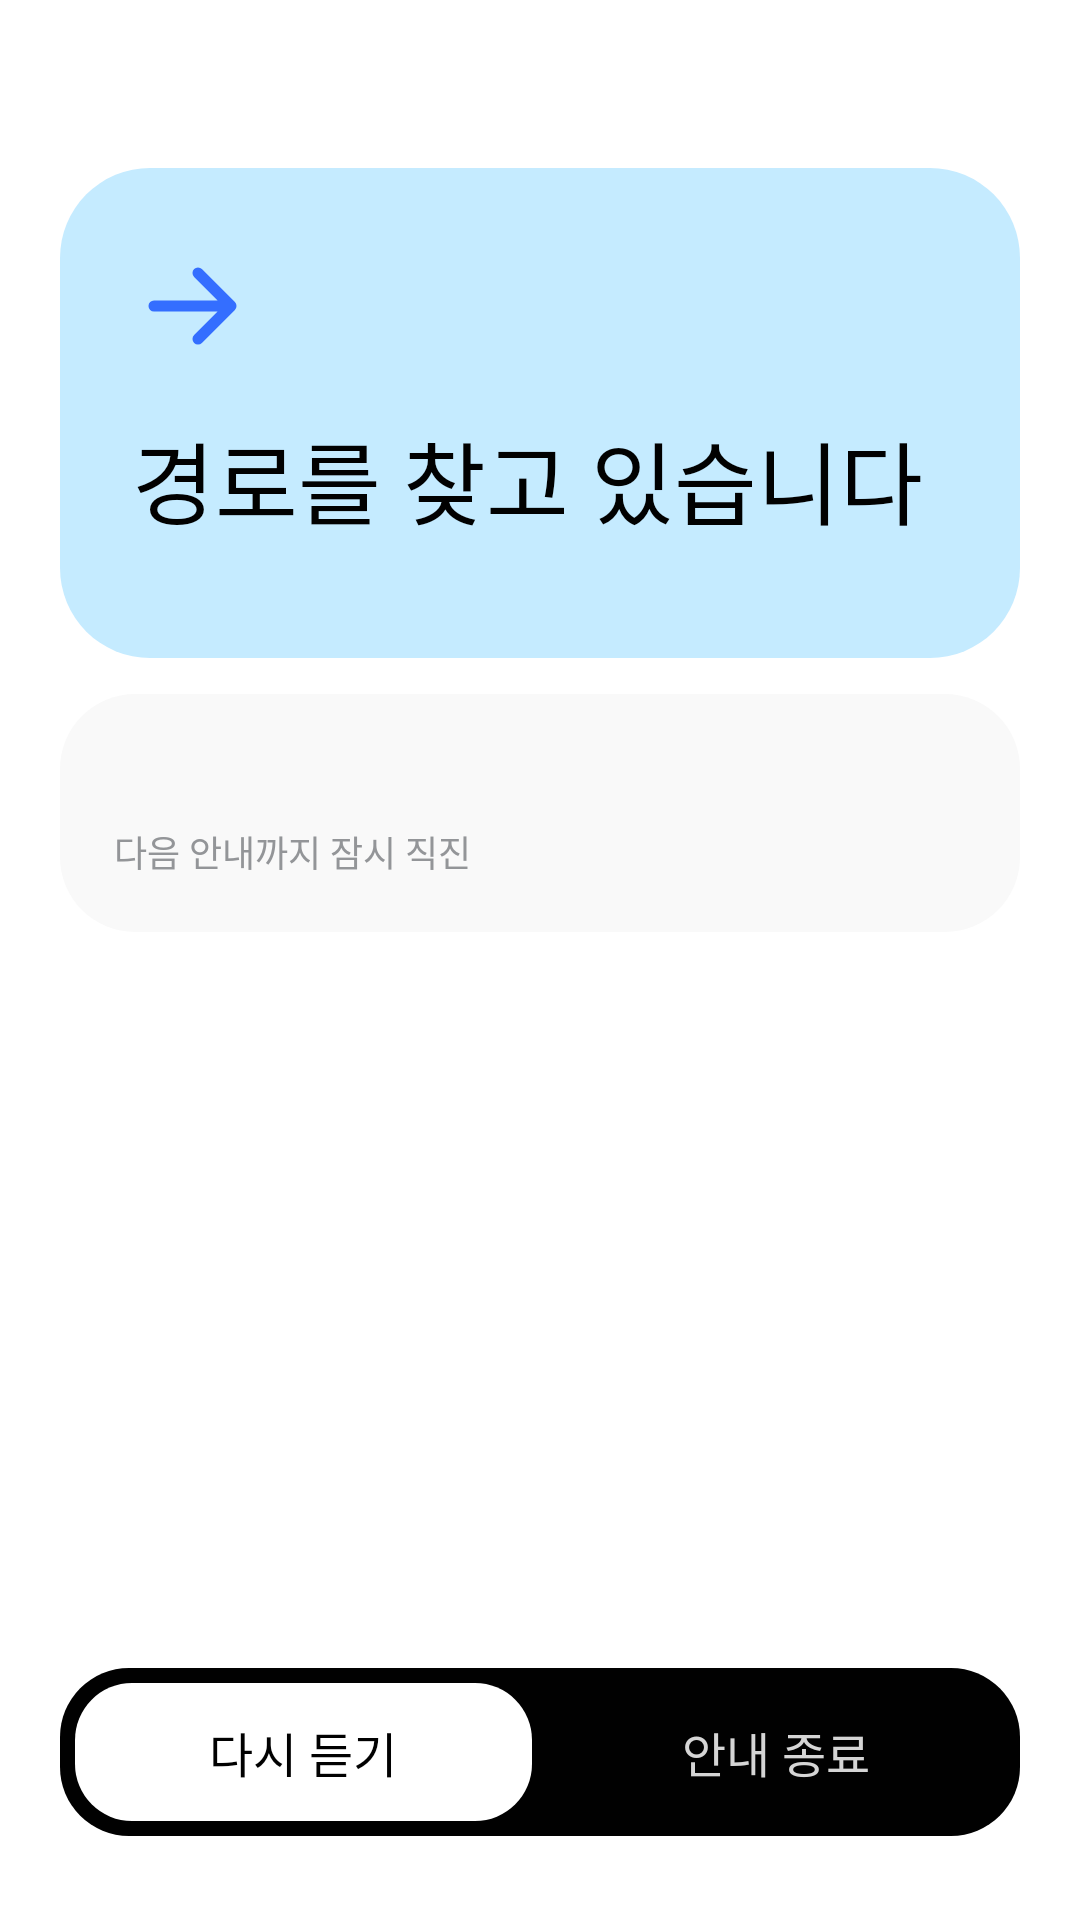

Screen size 1080 × 1920. Icon name, then its center in pixels as (x=x, y=y):
arrow right: (x=192, y=306)
